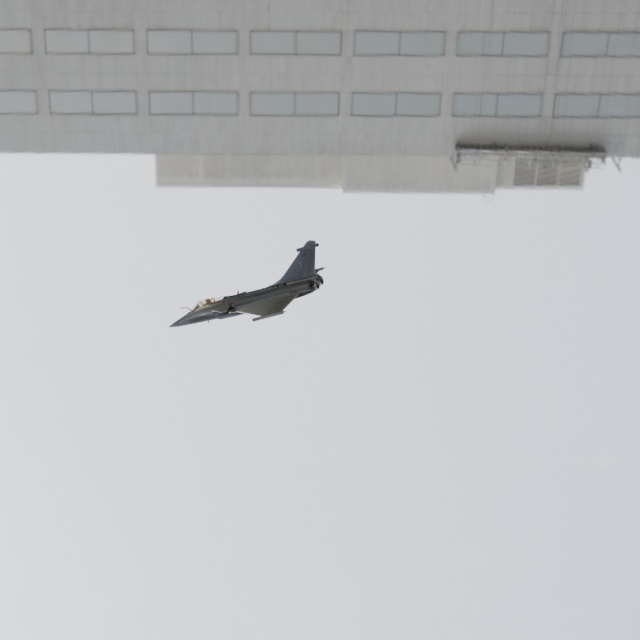dassault_rafale: (127, 219, 353, 355)
